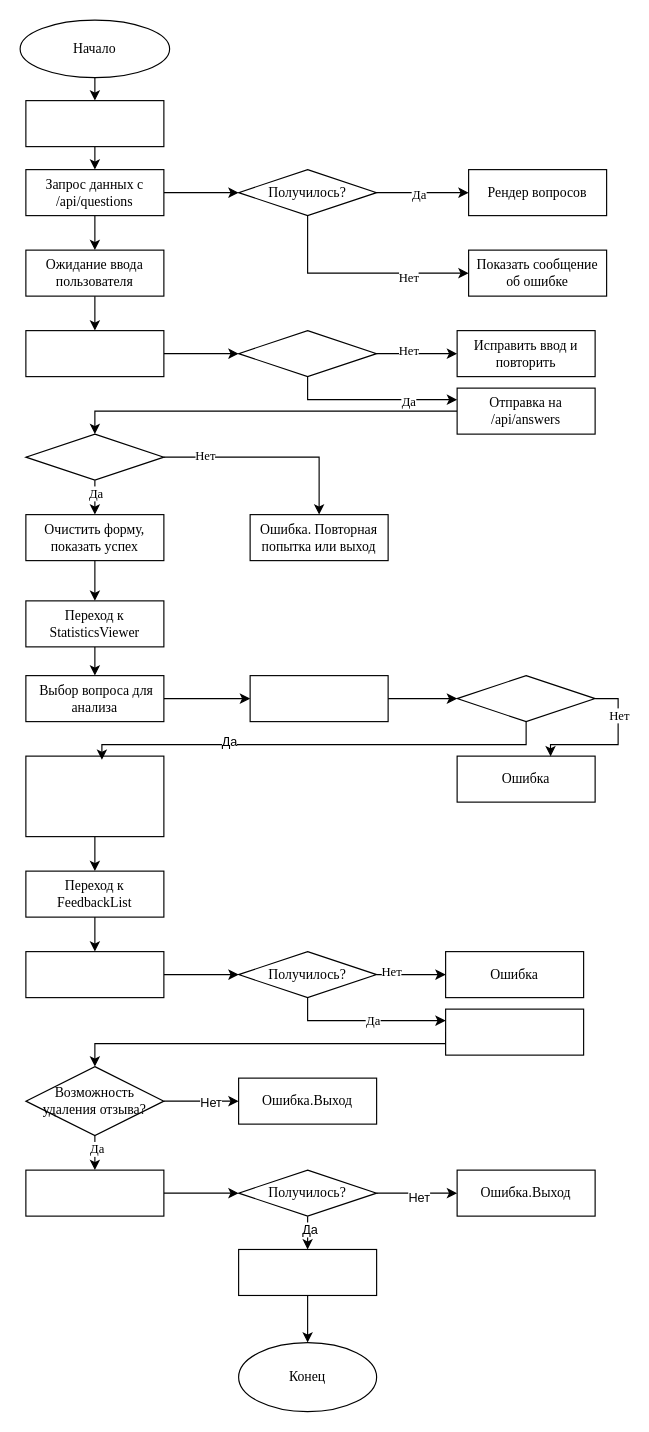
This 649x1432 diagram has some shape labels left out. Here are the shapes that lost their labels. From the top down, the centre of each, then its label:
At point 94,123: "Загрузка компонентов".
At point 94,353: "Сбор ответов: Выбор/Рейтинг/Текст".
At point 307,353: "Валидация данных?".
At point 94,456: "Успешная отправка?".
At point 318,698: "Запрос данных с /choices или /ratings".
At point 525,698: "Успех?".
At point 94,796: "Преобразование данных.Рендеринг диаграммы в StatisticsViewer".
At point 94,974: "Запрос данных с /api/feedback".
At point 514,1031: "Рендеринг отзывов с временными метками".
At point 94,1192: "Отправка DELETE на /api/feedback/:id".
At point 307,1271: "Возврат к списку".
